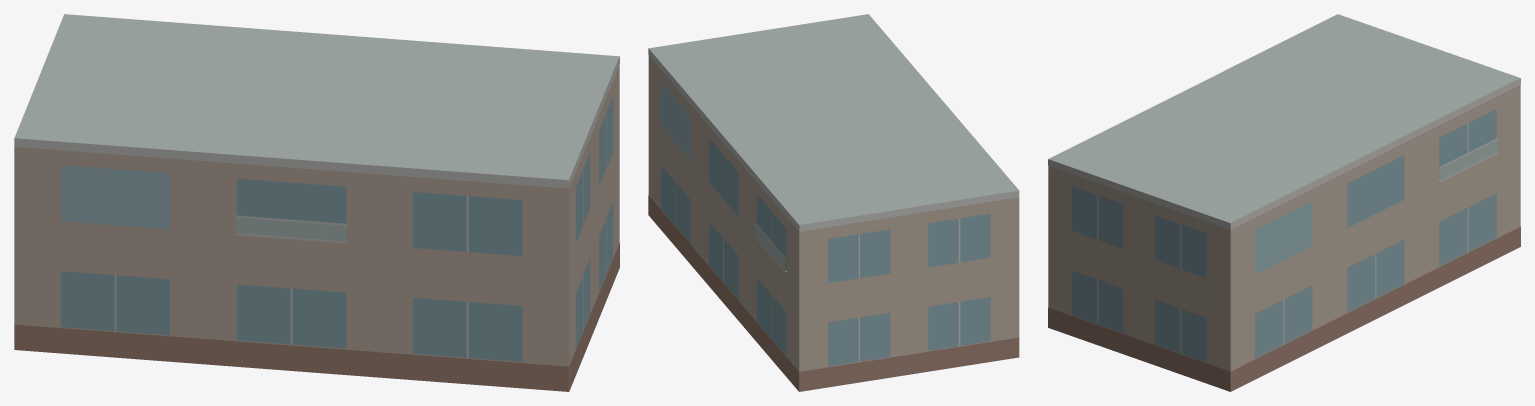
Rendered from survey-upis-32708748.glb.
3 views of the same model, side by side, from view 1: azimuth 30°, elevation 25°; view 2: azimuth 150°, elevation 25°; view 3: azimuth 270°, elevation 25° (orthographic). The views are drawn at different scales.
Parts seen in each view (by area): view 1: survey-upis-32708748.tmp; view 2: survey-upis-32708748.tmp; view 3: survey-upis-32708748.tmp.
Boxes of the visible parts, left/top/right/bottom form: survey-upis-32708748.tmp: left=14, top=14, right=619, bottom=391; survey-upis-32708748.tmp: left=648, top=14, right=1019, bottom=391; survey-upis-32708748.tmp: left=1048, top=14, right=1520, bottom=391.
Size of the model in its own units: 16.23 by 6.1 by 15.5.
